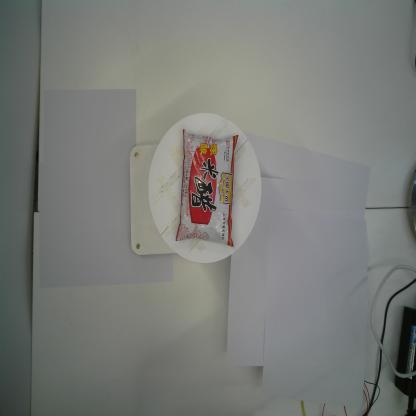Seasoner: (174, 127, 241, 250)
